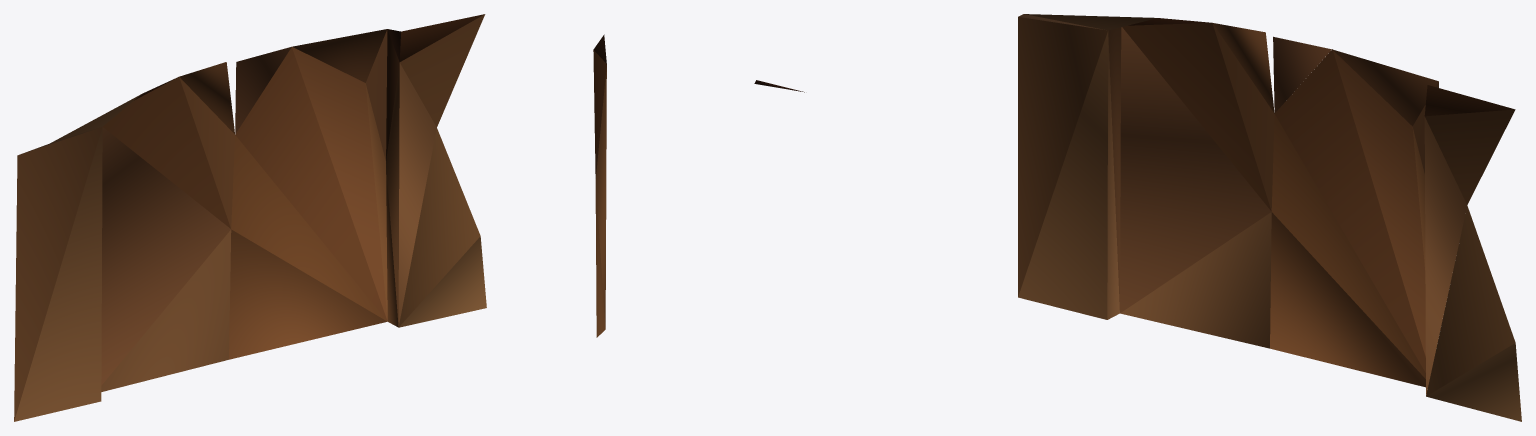
File: building-circuitLamp-boxDoor.glb
The picture shows the model from 3 angles, left to right: view 1: azimuth 30°, elevation 25°; view 2: azimuth 150°, elevation 25°; view 3: azimuth 330°, elevation 25°; orthographic projection. The views are drawn at different scales.
Parts seen in each view (by area): view 1: 0_circuitLamp.001; view 2: 0_circuitLamp.001; view 3: 0_circuitLamp.001.
Boxes of the visible parts, x1,y1,x2,y2 form: 0_circuitLamp.001: [14, 14, 486, 421]; 0_circuitLamp.001: [593, 34, 804, 337]; 0_circuitLamp.001: [1018, 14, 1521, 421].
Bounding box in the file's own units: 0.3535 × 0.2145 × 0.0359.
